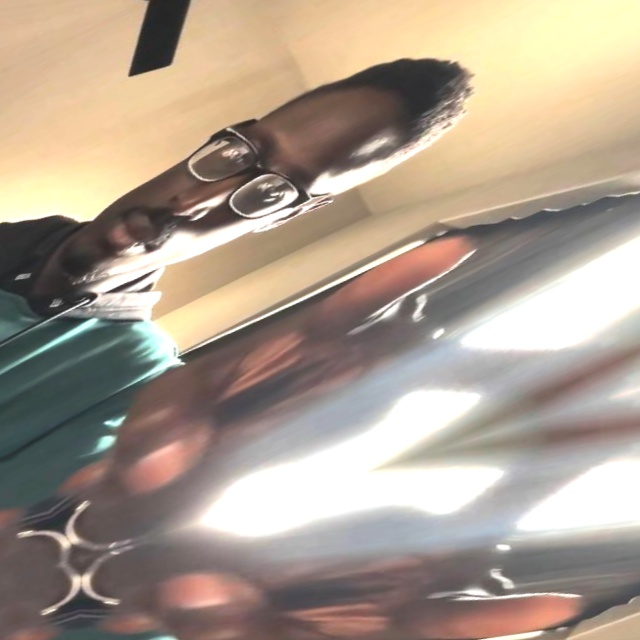Scissors: (0, 169, 640, 568)
